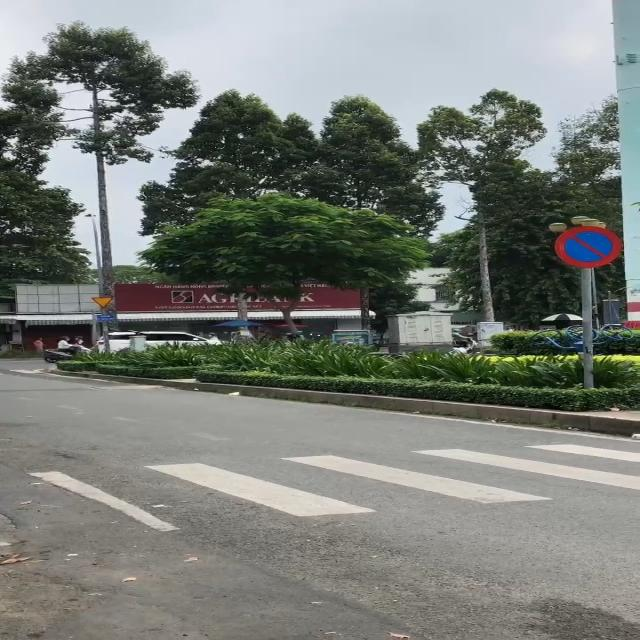Bien bao cam do xe: (552, 221, 629, 271)
Bien bao giao nhau voi duong uu tien: (88, 296, 117, 309)
